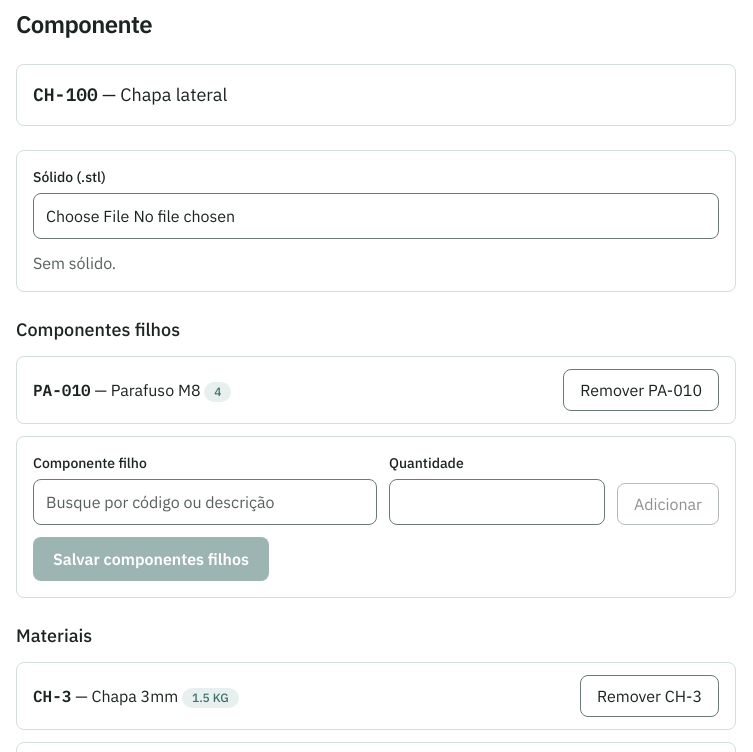
ComponenteDetalhePage — escrita › Salvar começa desabilitado e habilita quando há alteração pendente
Expected: the text "PA-010" is shown, [33,380,91,400]
Expected: the button "Salvar componentes filhos" is disabled, [33,537,269,581]
Click the dropdown at (205, 502), box [33,479,377,525]
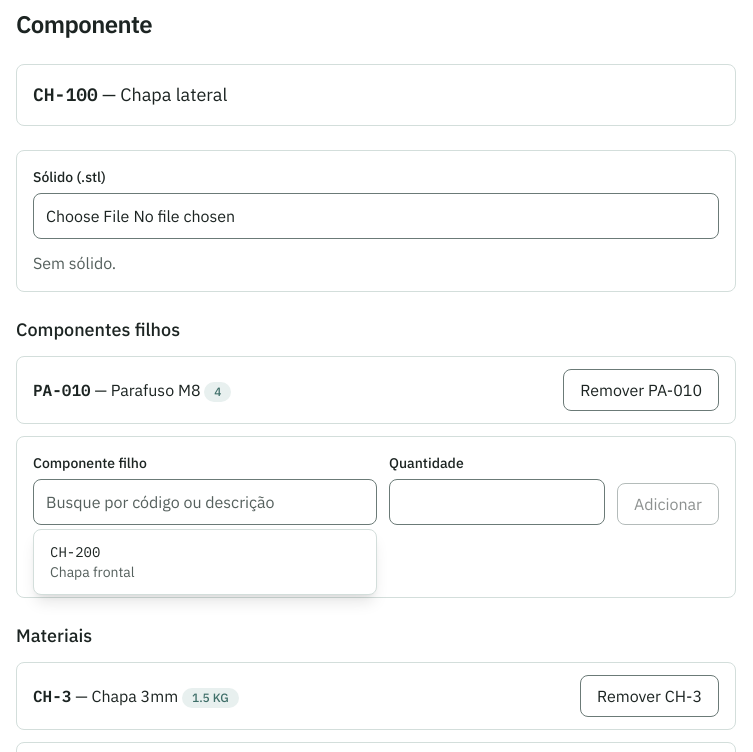
Click the text "CH-200" at (75, 552), box [50,543,100,561]
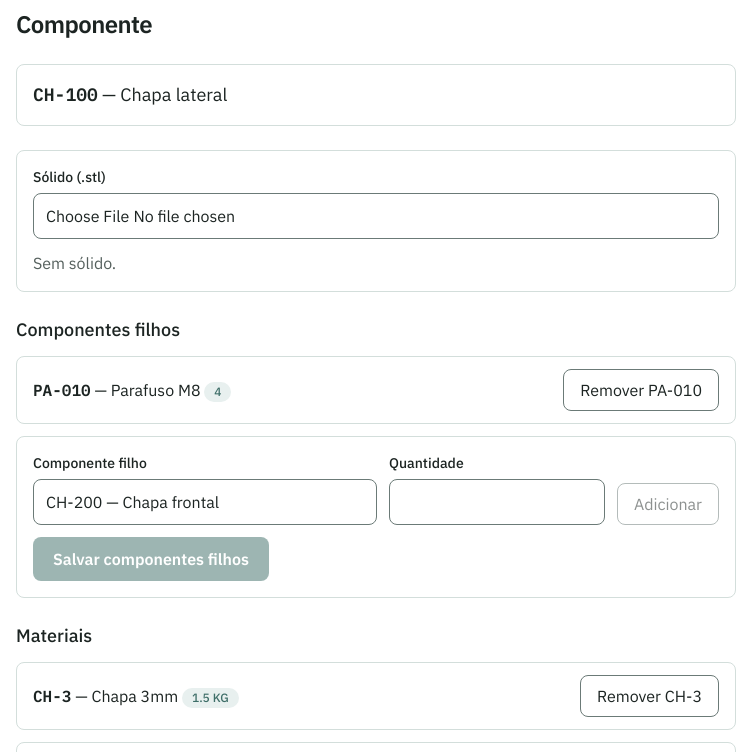
Type "2" into the number field labelled "Quantidade" at (497, 502), box [389,479,605,525]
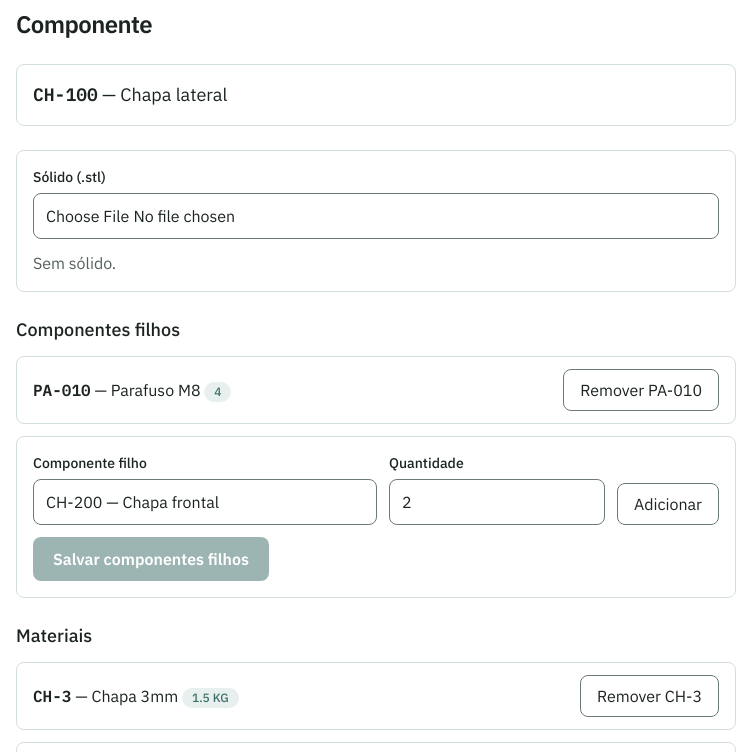
Click the button "Adicionar" at (668, 504), box [617,483,719,525]
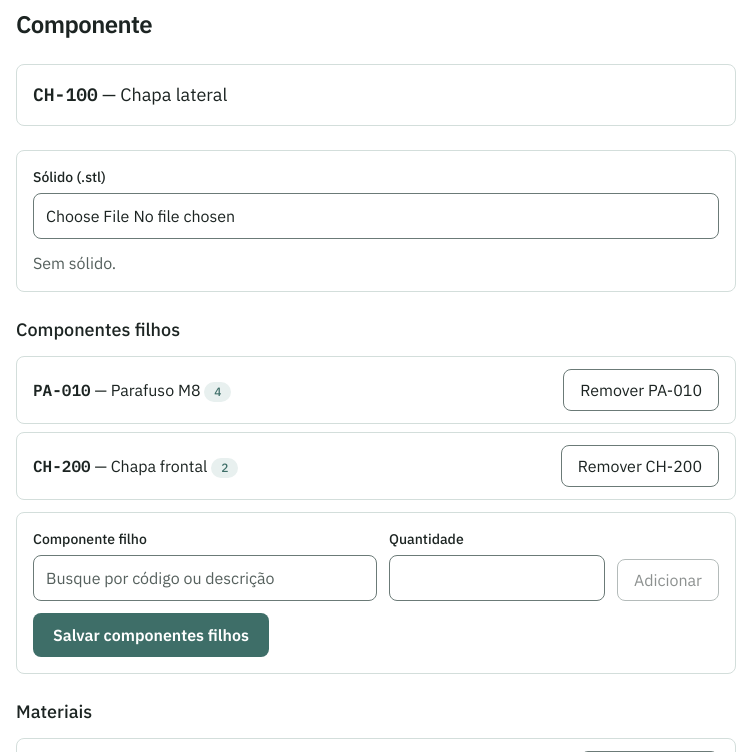
Now the button "Salvar componentes filhos" is enabled, box [33,613,269,657]
